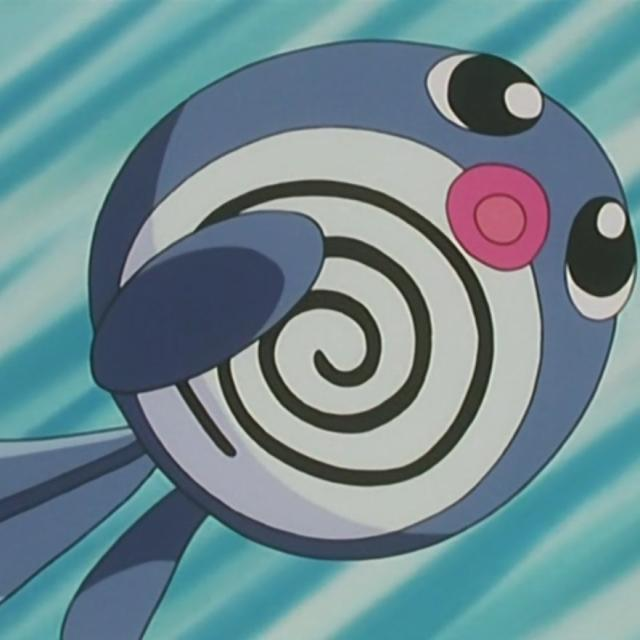Poliwag: (93, 17, 614, 541)
